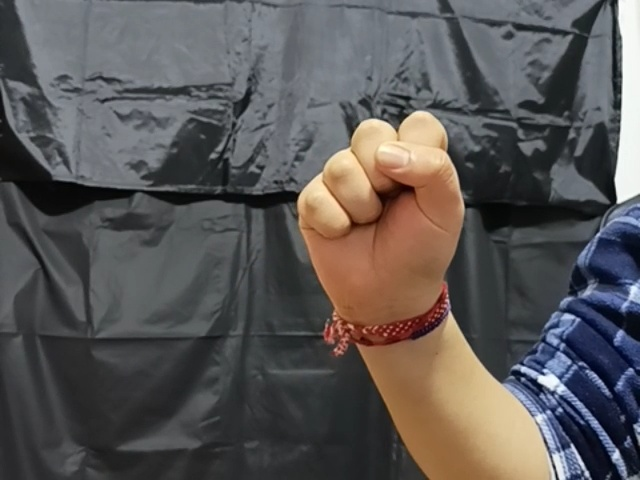S: (298, 110, 464, 318)
